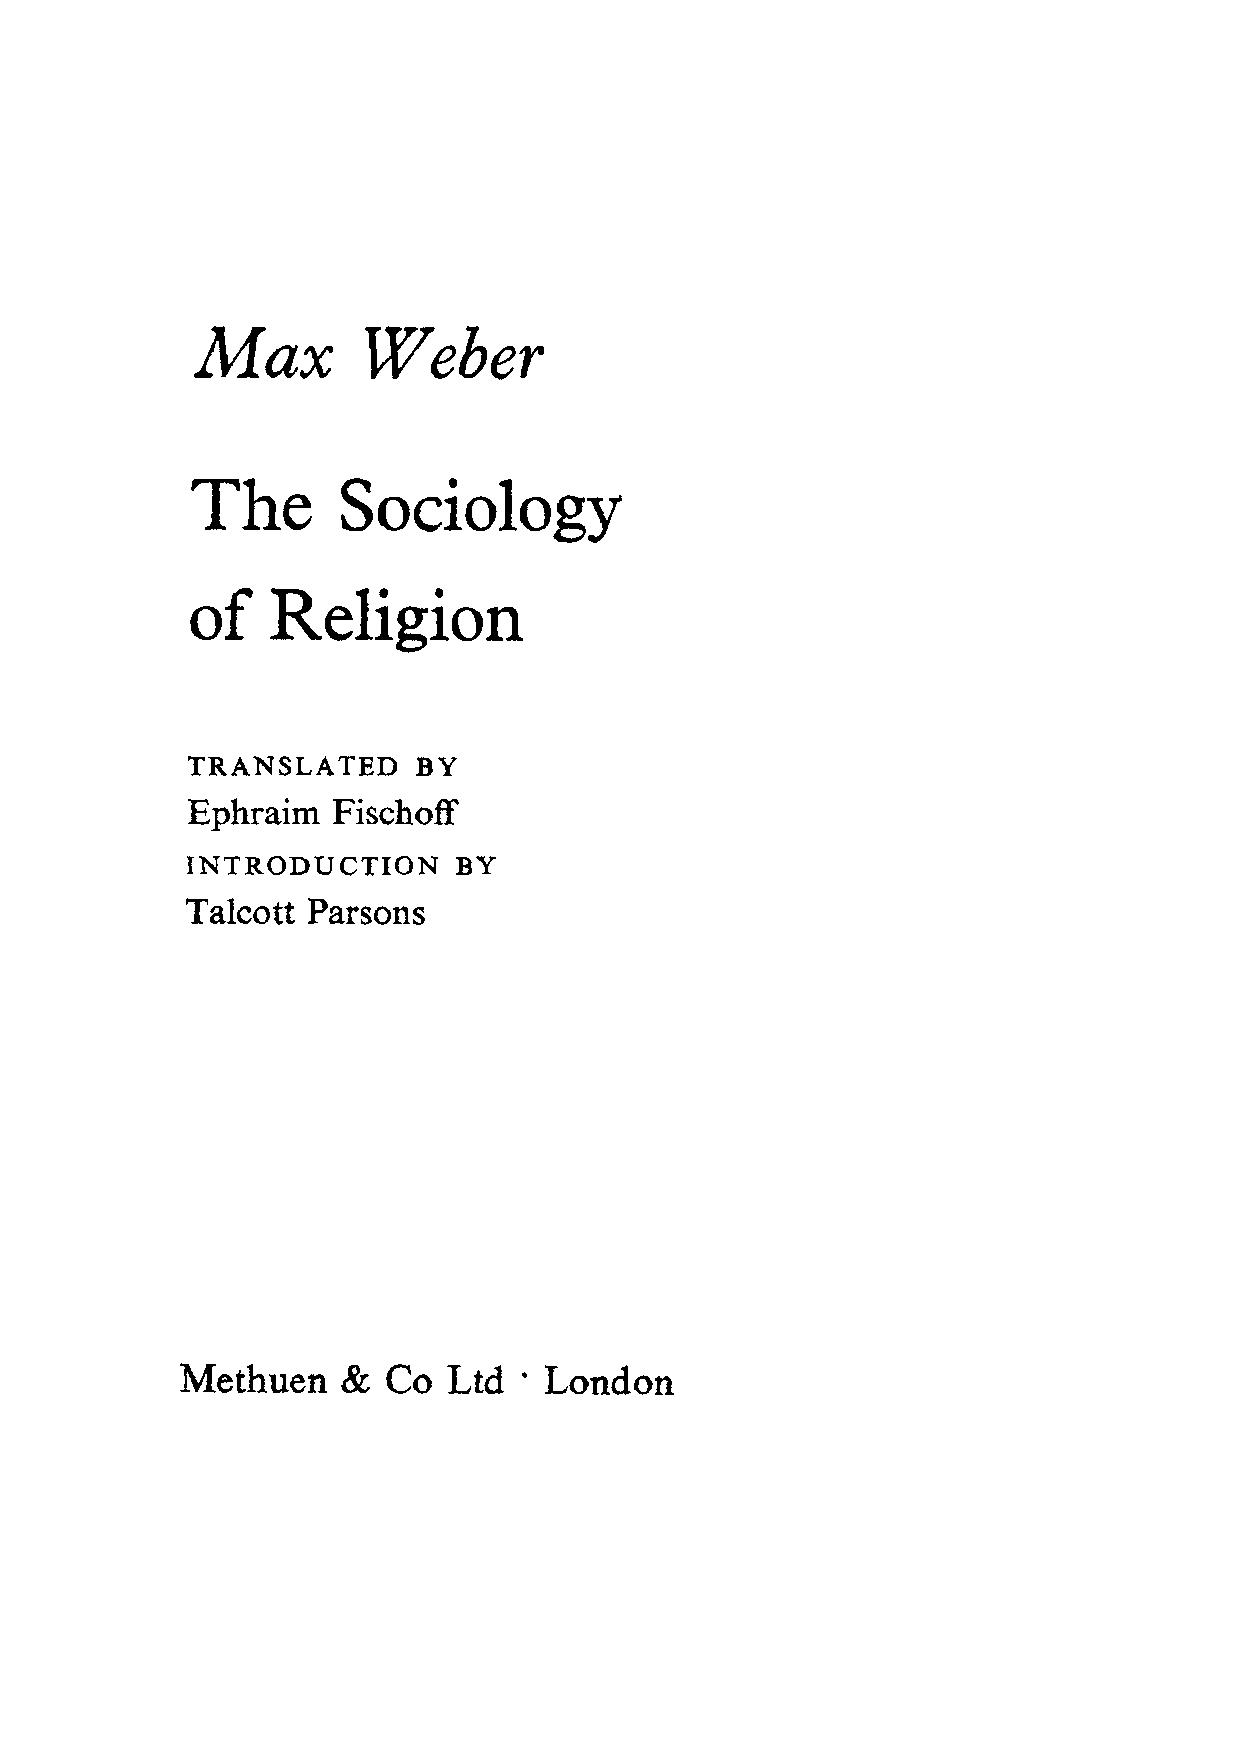author: (189, 322, 549, 378)
title: (188, 474, 623, 654)
